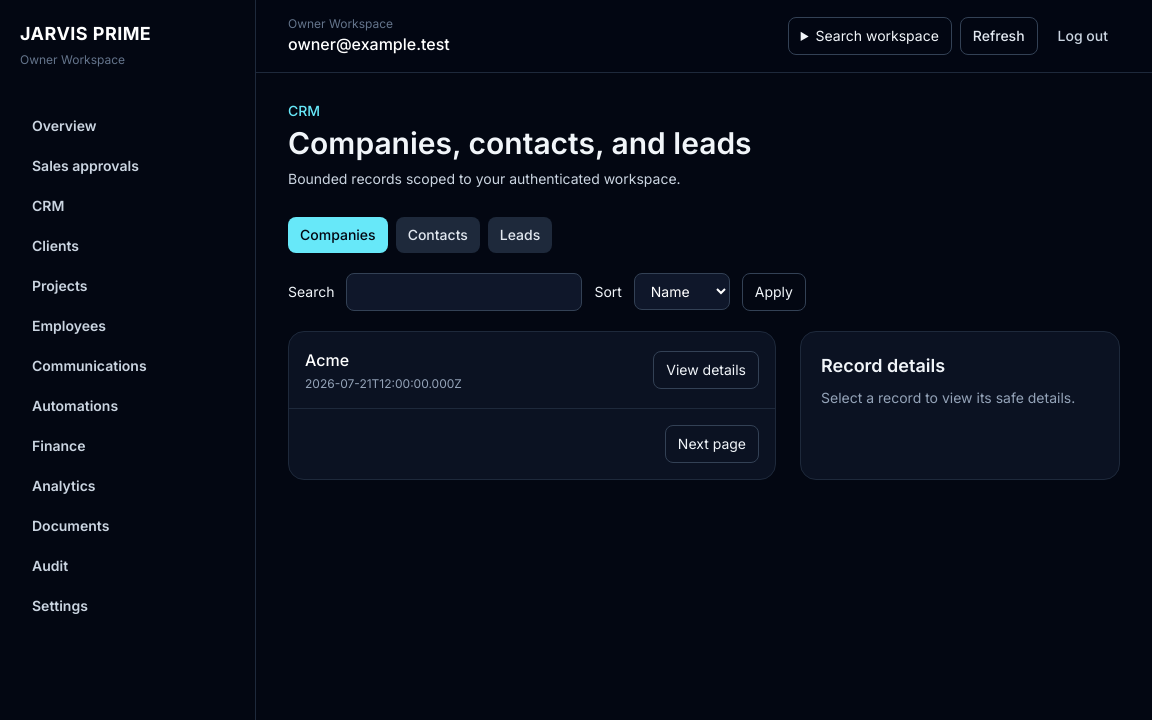
Test case: Owner Workspace CRM and clients › provides named CRM tabs, bounded search, pagination, and accessible record details
expect the heading "Companies, contacts, and leads" is shown: met, box [288,125,752,161]
Step 1. Type "Acme" into the field named "Search Companies" → (464, 292), box [346,273,582,311]
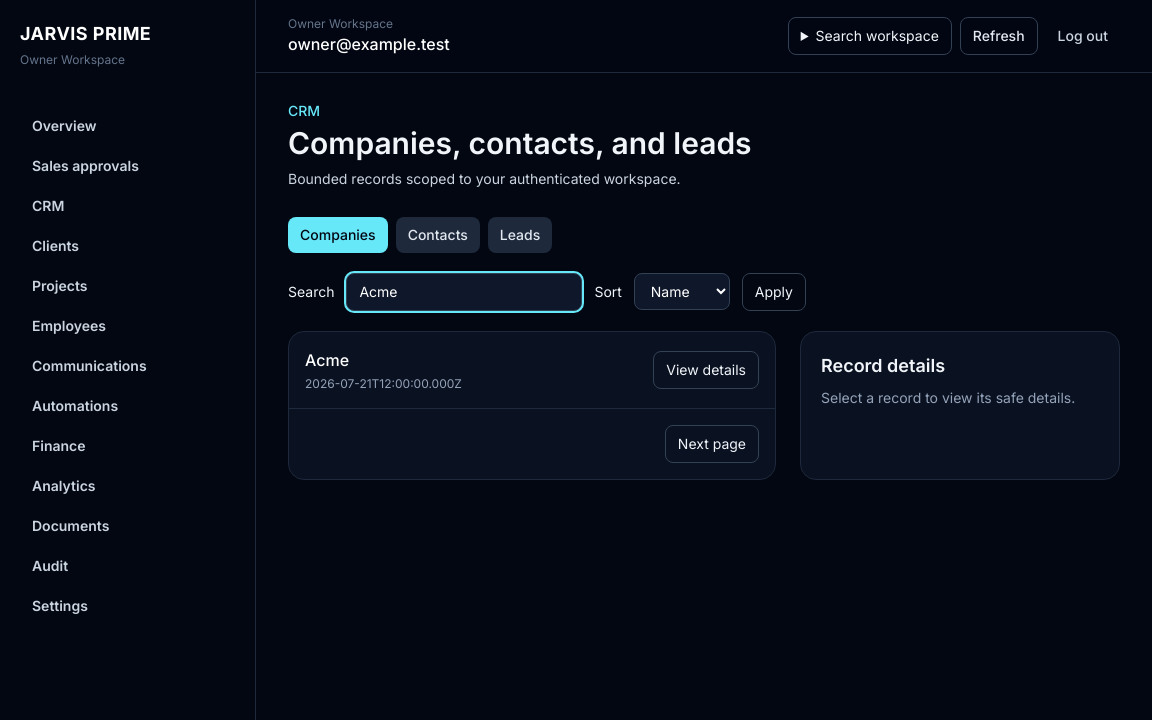
Step 2. Click the button "Apply" → (774, 292), box [742,273,806,311]
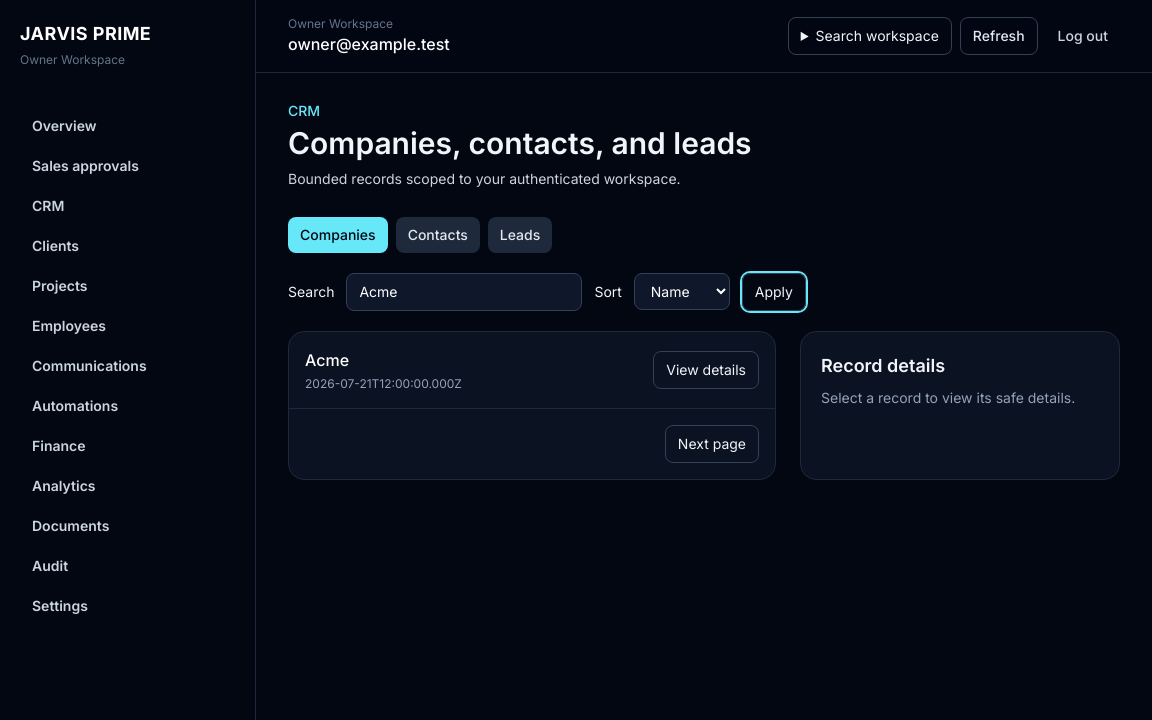
Step 3. Click the button "Next page" → (712, 444), box [665,425,759,463]
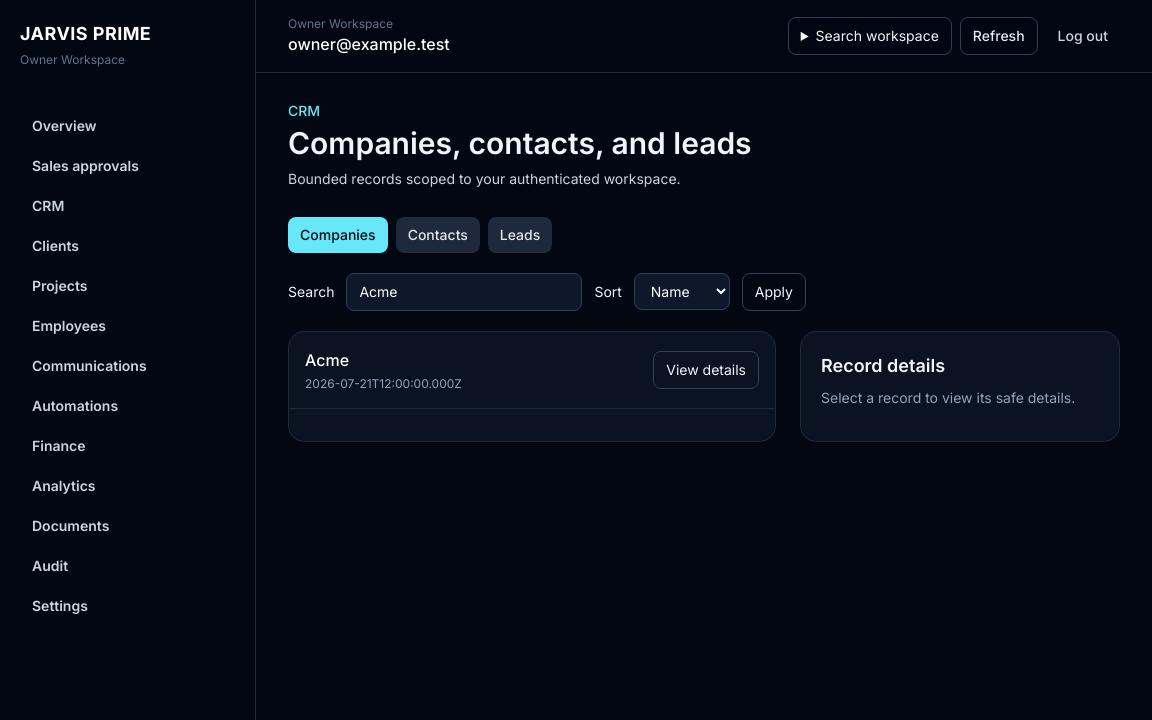
Step 4. Click the button "View details" → (706, 370), box [653,351,759,389]
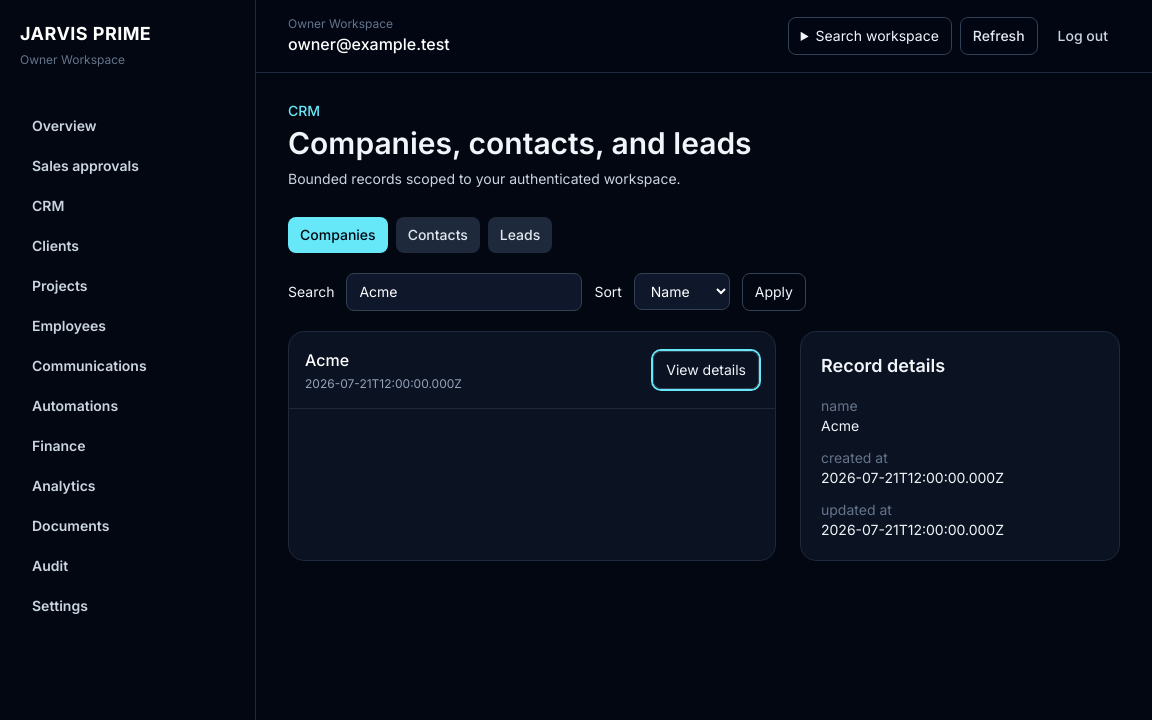
expect the text "updated at" is shown: met, box [821,501,892,518]
